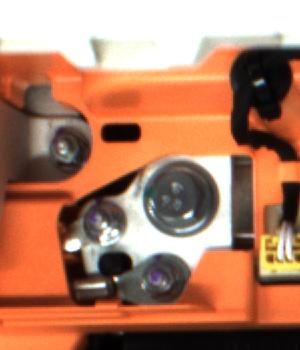nut_b: (134, 156, 228, 242)
